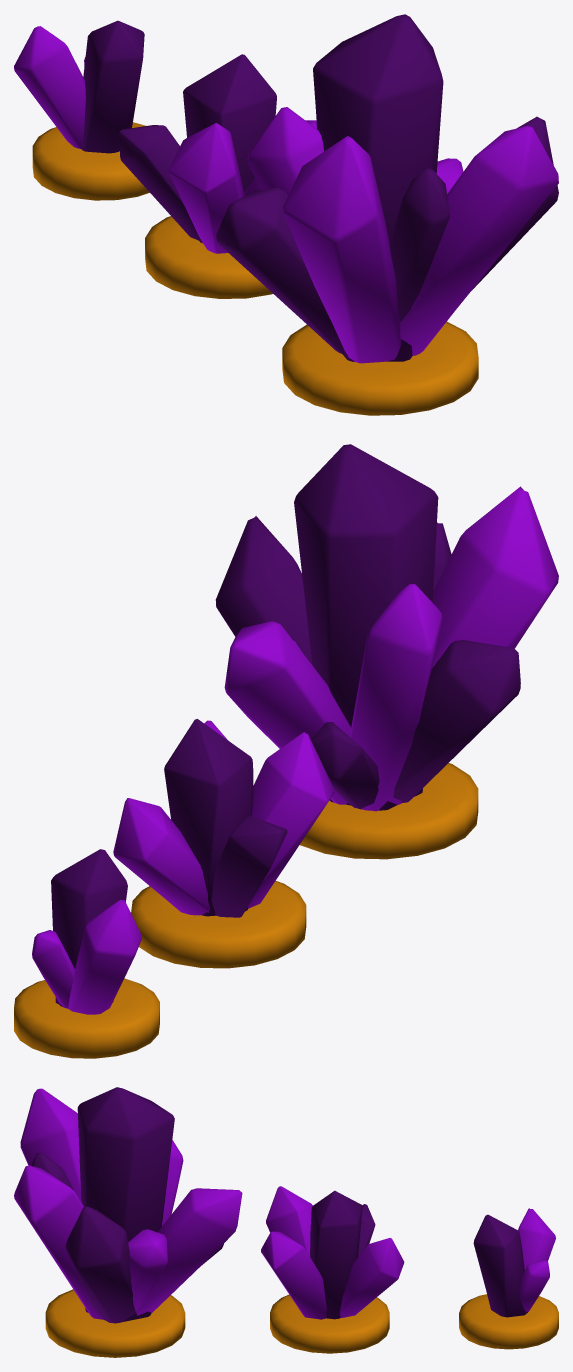
The model's file is Crystals_Simple.fbx.
The picture shows the model from 3 angles, top to bottom: view 1: azimuth 30°, elevation 25°; view 2: azimuth 150°, elevation 25°; view 3: azimuth 270°, elevation 25°; orthographic projection. The views are drawn at different scales.
Visible parts, largest first — view 1: Crystal_Large, Crystal_Medium, Crystal_Smal; view 2: Crystal_Large, Crystal_Medium, Crystal_Smal; view 3: Crystal_Large, Crystal_Medium, Crystal_Smal.
Boxes of the visible parts, box(x1,y1,x2,y2) form: Crystal_Large: box(216, 14, 558, 415); Crystal_Medium: box(119, 54, 316, 298); Crystal_Smal: box(14, 20, 149, 200); Crystal_Large: box(215, 444, 558, 859); Crystal_Medium: box(113, 719, 334, 968); Crystal_Smal: box(14, 849, 159, 1058); Crystal_Large: box(14, 1087, 242, 1357); Crystal_Medium: box(261, 1186, 404, 1353); Crystal_Smal: box(459, 1208, 558, 1349).
Size of the model in its own units: 87.61 by 98.68 by 196.
